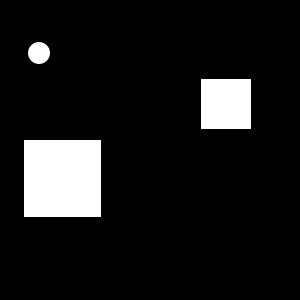circle: (24, 140, 101, 217), (201, 79, 251, 129)
rectangle: (28, 42, 50, 64)
